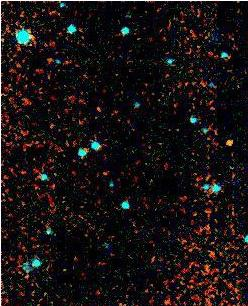star: (215, 134, 245, 164)
